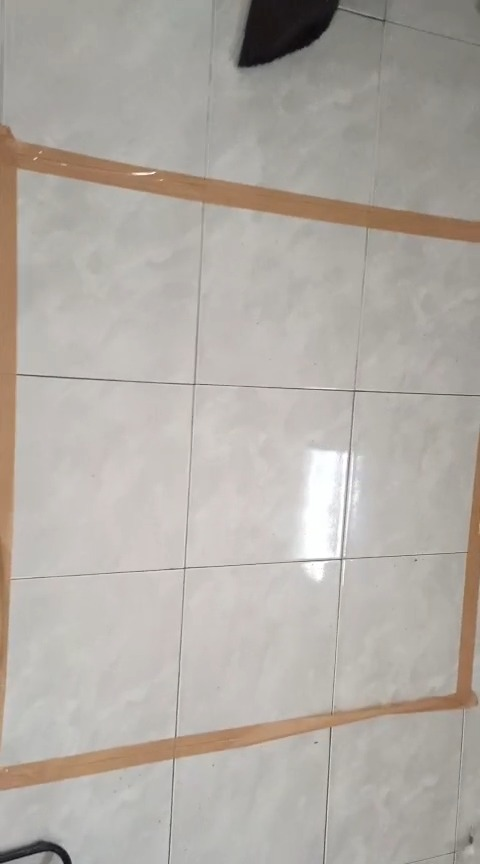floor marking: (0, 126, 479, 739), (1, 438, 479, 787)
